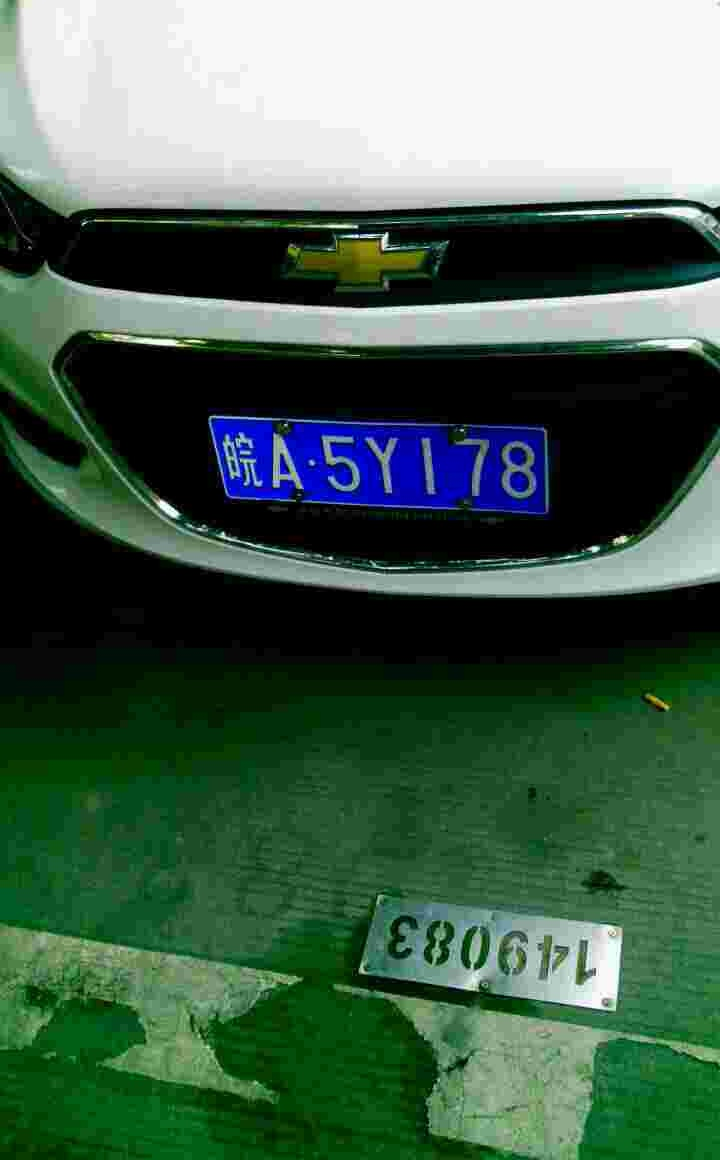license_plate: (207, 411, 564, 524)
